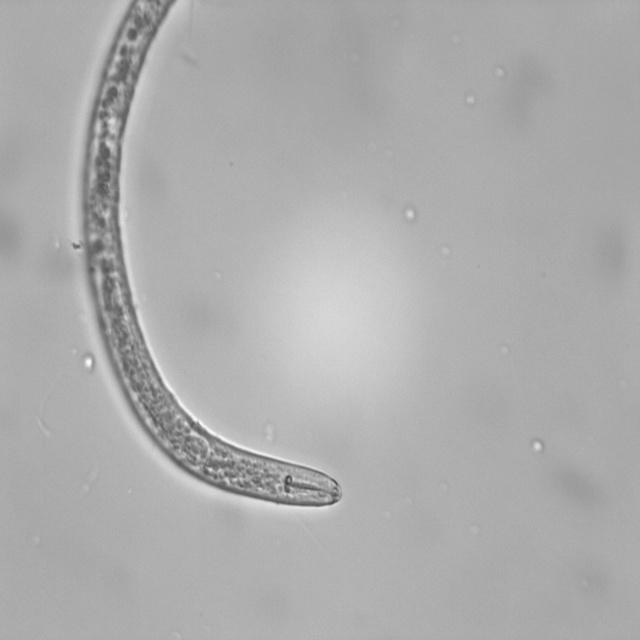Helicotylenchus: (71, 0, 344, 522)
